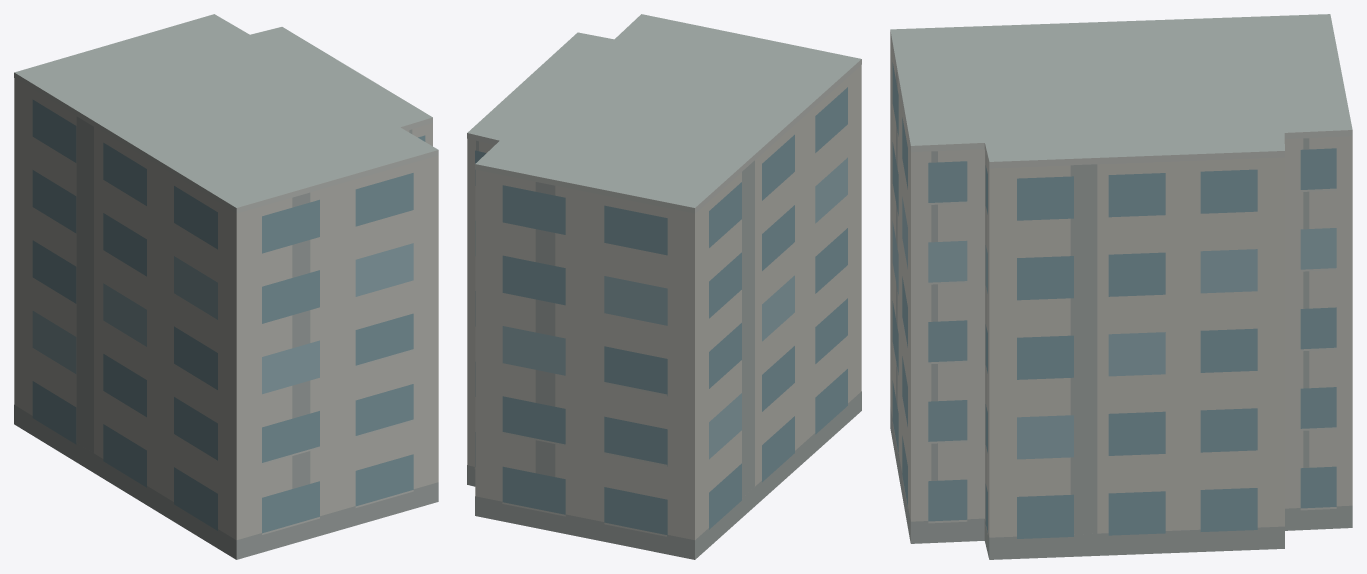
The model's file is survey-upis-32740225.glb.
The picture shows the model from 3 angles, left to right: view 1: azimuth 30°, elevation 25°; view 2: azimuth 150°, elevation 25°; view 3: azimuth 270°, elevation 25°; orthographic projection. The views are drawn at different scales.
Visible parts, largest first — view 1: survey-upis-32740225.tmp; view 2: survey-upis-32740225.tmp; view 3: survey-upis-32740225.tmp.
Boxes of the visible parts, left/top/right/bottom form: survey-upis-32740225.tmp: left=14, top=14, right=438, bottom=559; survey-upis-32740225.tmp: left=467, top=14, right=861, bottom=559; survey-upis-32740225.tmp: left=890, top=14, right=1352, bottom=559.
Size of the model in its own units: 12.17 by 15.25 by 16.07.
